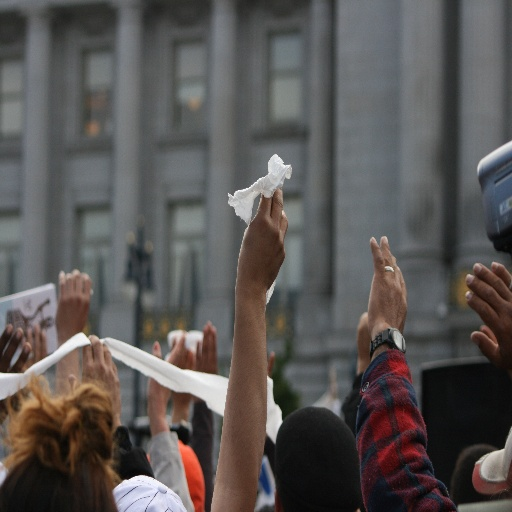hand: (363, 241, 418, 369), (234, 184, 288, 292), (464, 259, 511, 378), (66, 333, 120, 424), (0, 325, 31, 425), (147, 335, 184, 418), (54, 269, 92, 341), (17, 321, 44, 383), (193, 322, 218, 375), (170, 349, 191, 401), (481, 323, 497, 343), (266, 350, 275, 380)
